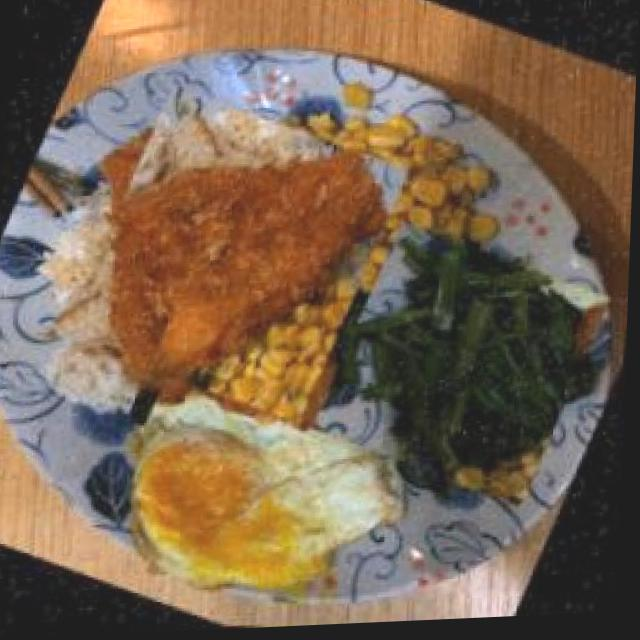fried_chicken: (26, 80, 427, 484)
fried_eggs: (88, 362, 429, 636)
rice: (0, 175, 213, 433)
water_spinach: (304, 211, 621, 525)
